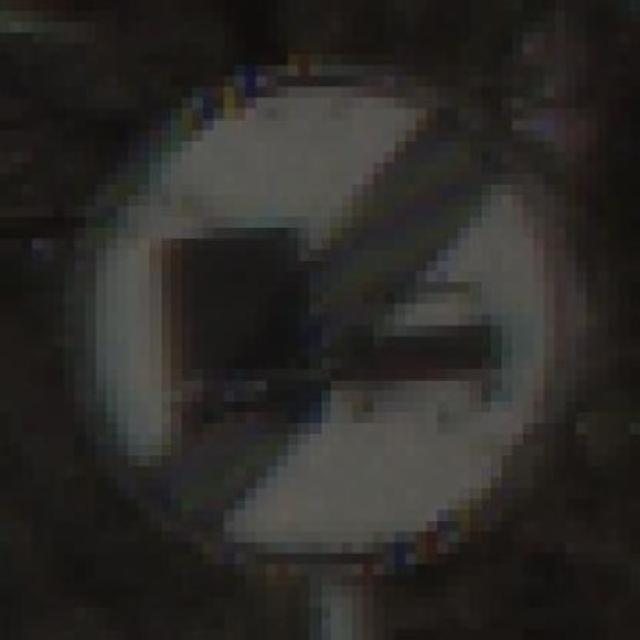Overtaking by trucks is prohibited: (42, 43, 608, 586)
